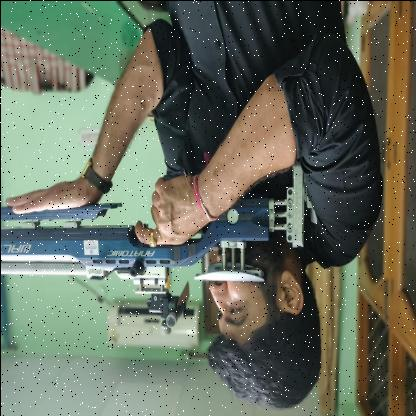rifle: (0, 158, 318, 338)
